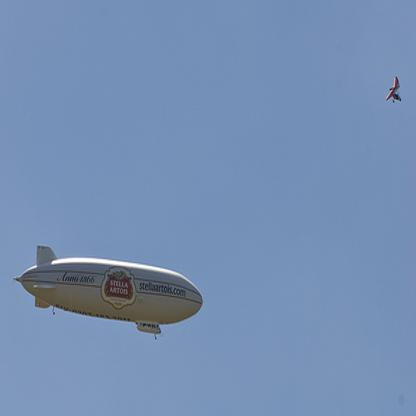Airship: (11, 240, 212, 346)
